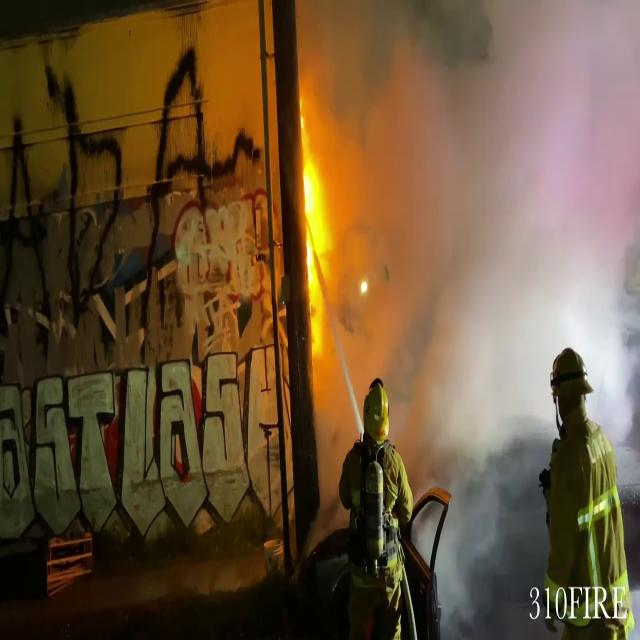Fire: (300, 90, 334, 358)
Smoke: (319, 0, 640, 468)
